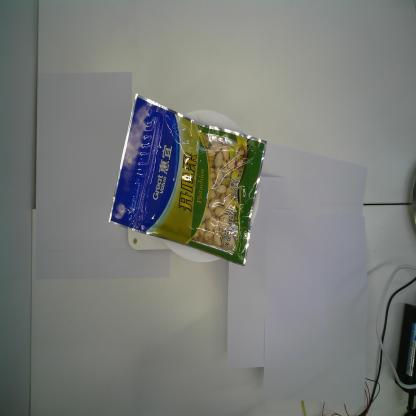Dried Fruit: (107, 92, 268, 268)
